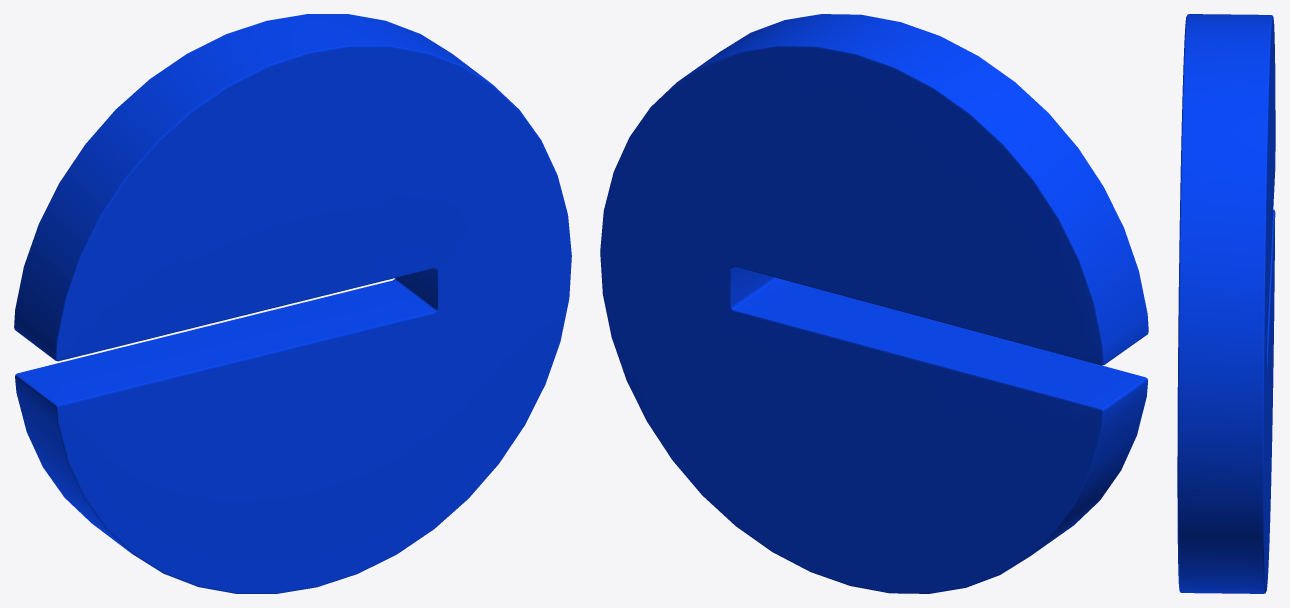
Rendered from coin.glb.
3 views of the same model, side by side, from view 1: azimuth 30°, elevation 25°; view 2: azimuth 150°, elevation 25°; view 3: azimuth 270°, elevation 25° (orthographic). The views are drawn at different scales.
Parts seen in each view (by area): view 1: polySurface1; view 2: polySurface1; view 3: polySurface1.
Part boxes in pixels (bbox=[...]): polySurface1: bbox=[14, 14, 571, 593]; polySurface1: bbox=[600, 14, 1148, 593]; polySurface1: bbox=[1177, 14, 1275, 593].
Bounding box in the file's own units: 0.9137 × 0.9146 × 0.1546.
